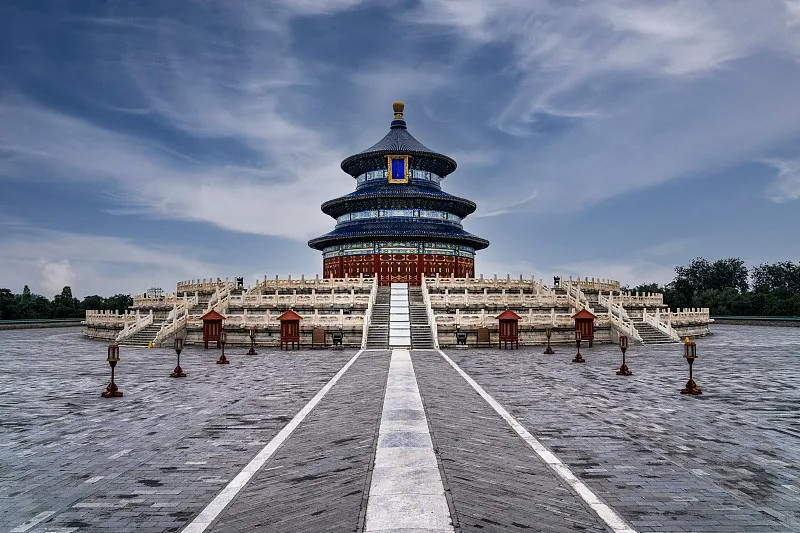Heaven: (306, 100, 491, 286)
